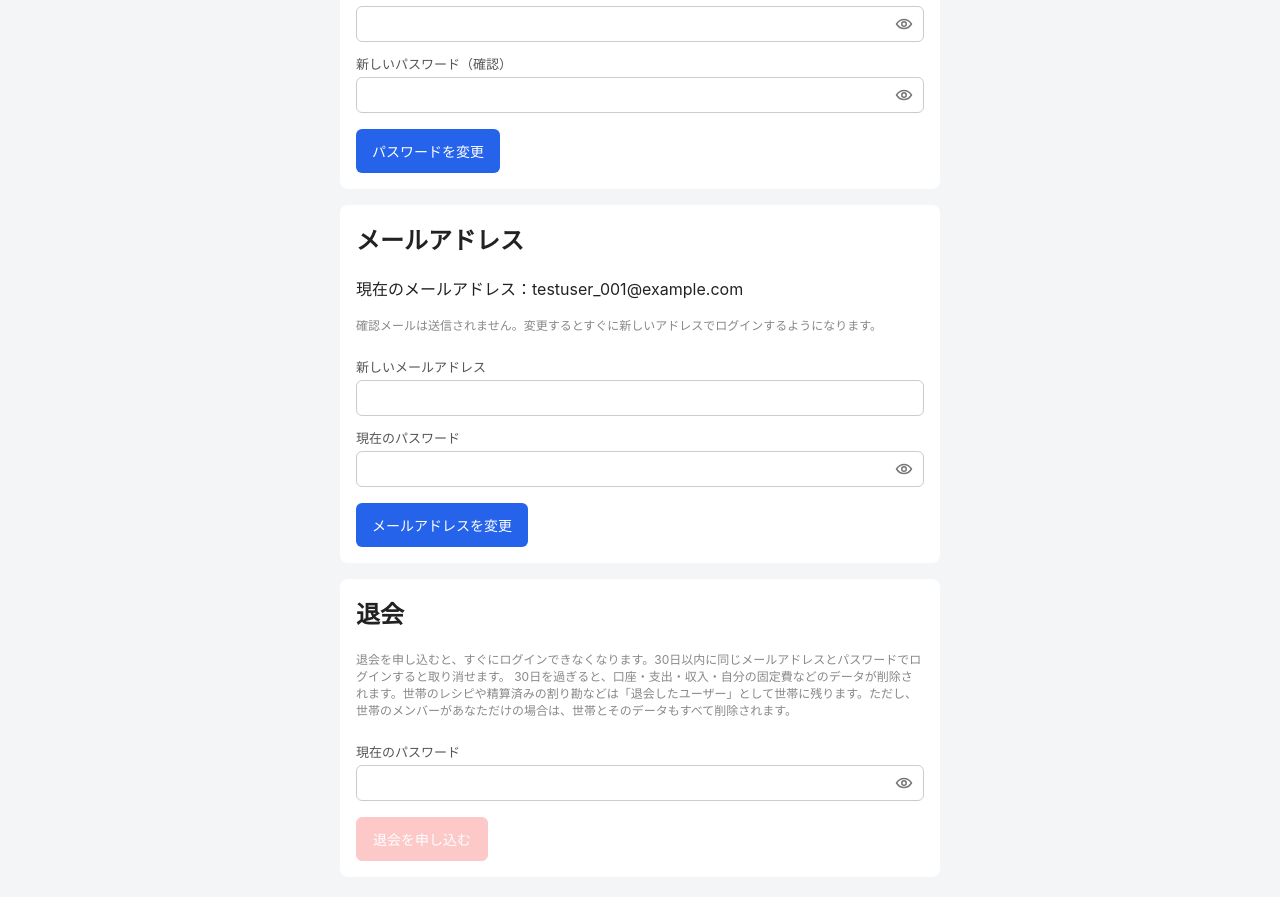
アカウント設定の退会 (#298) › 確認ダイアログを経て申し込むと、ログアウトしてログイン画面に削除予定日を表示する
The width and height of the screenshot is (1280, 897).
(page scrolled)
Expected: the text "30日以内" is shown, [356,652,921,718]
Type "TestPass123!" into the 2nd password field labelled "現在のパスワード". click: (640, 782)
box: [356,764,924,800]
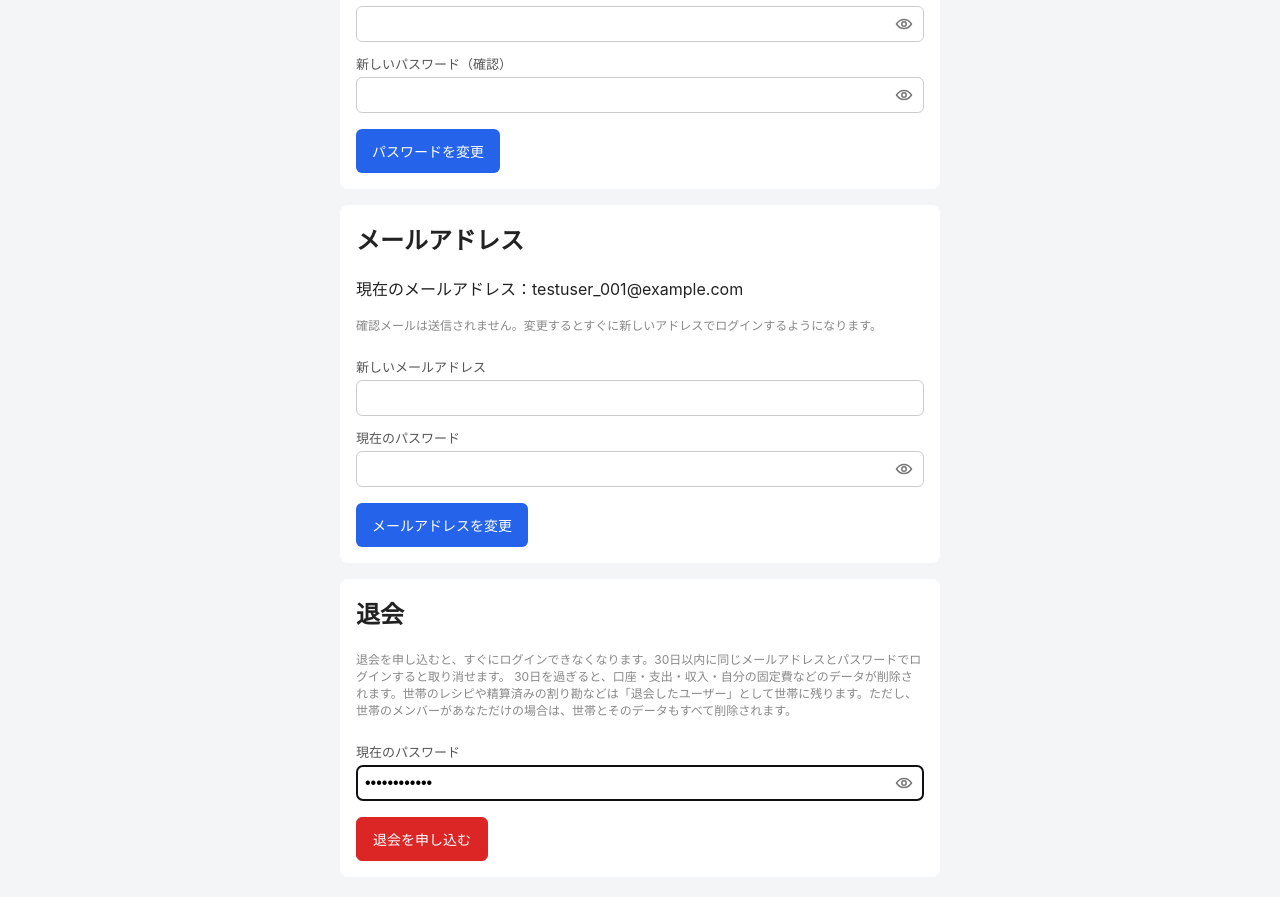
Expected: the button "退会を申し込む" is enabled
Click the button "退会を申し込む". click: click(422, 838)
box: [356,816,488,860]
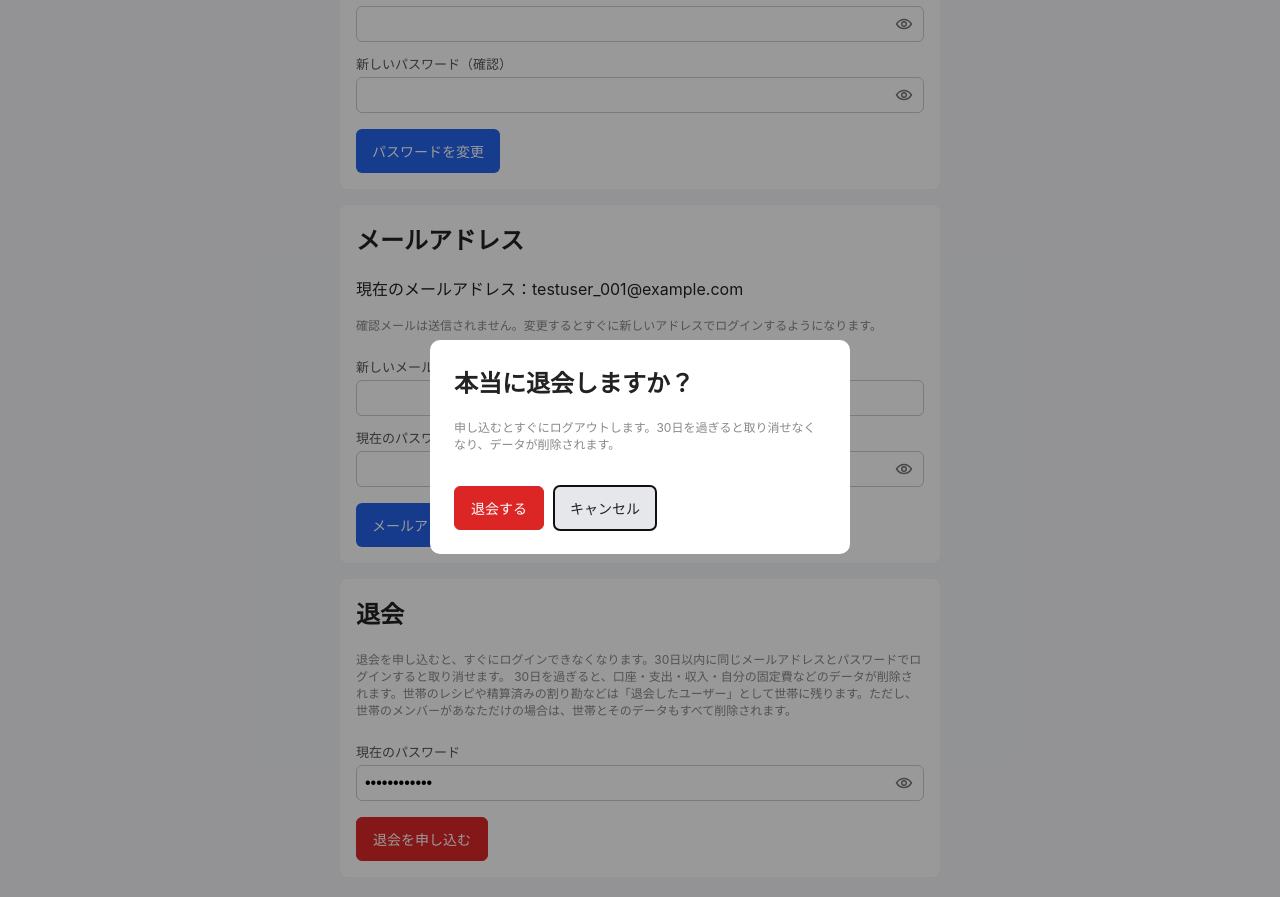
Click the button "キャンセル". click: click(605, 508)
box: [554,486,656,530]
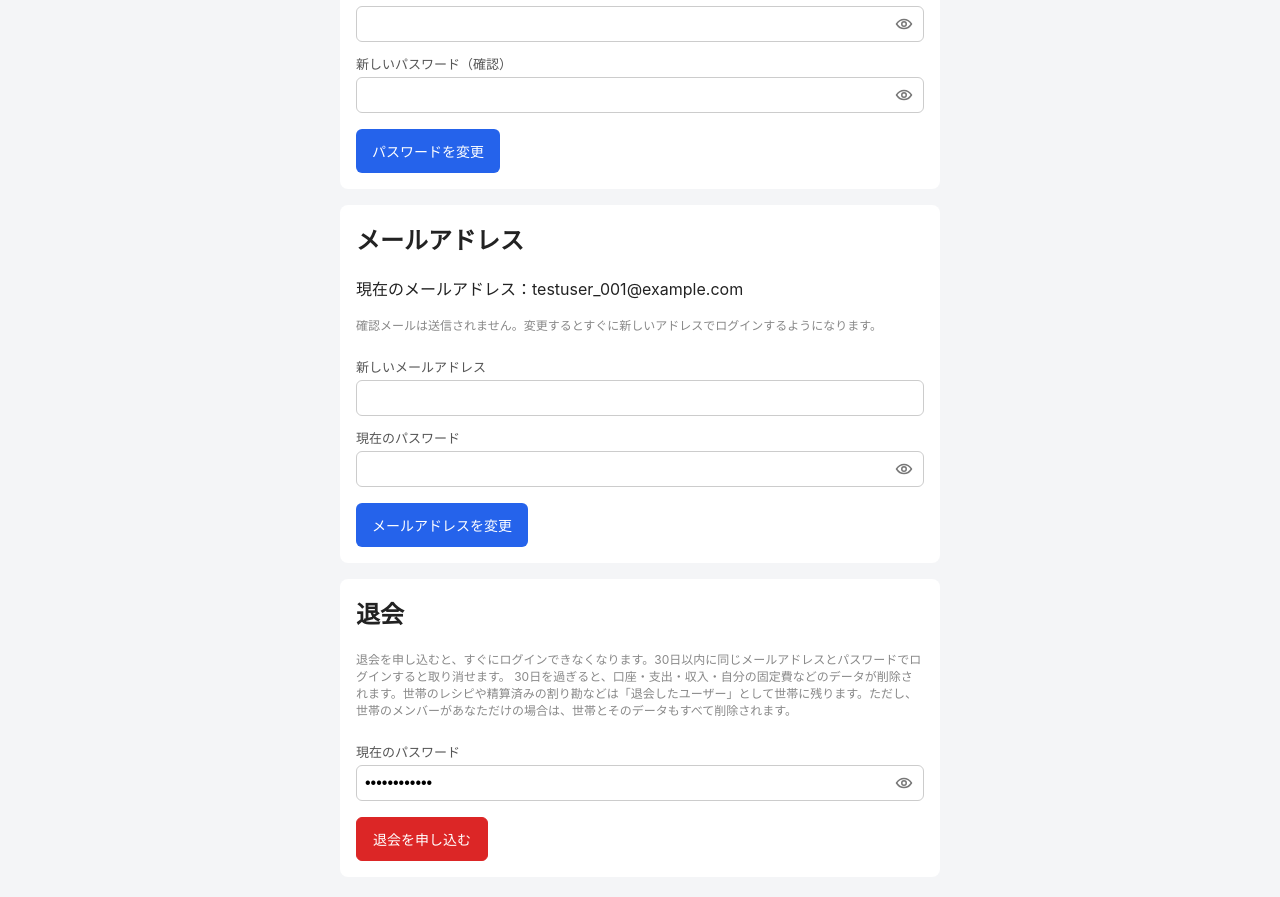
Click the button "退会を申し込む". click: click(422, 838)
box: [356,816,488,860]
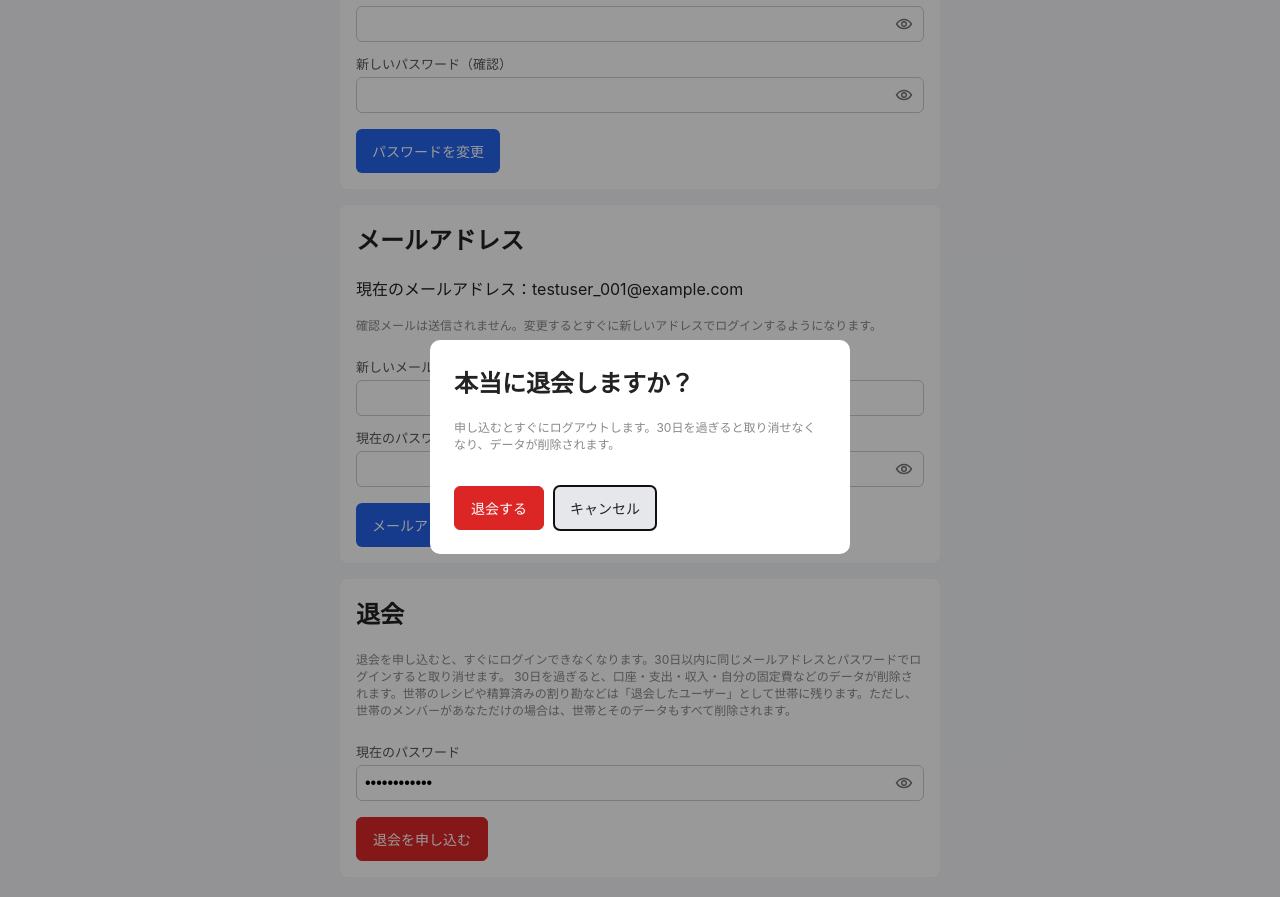
Click the button "退会する". click: click(499, 508)
box: [454,486,544,530]
(page scrolled)
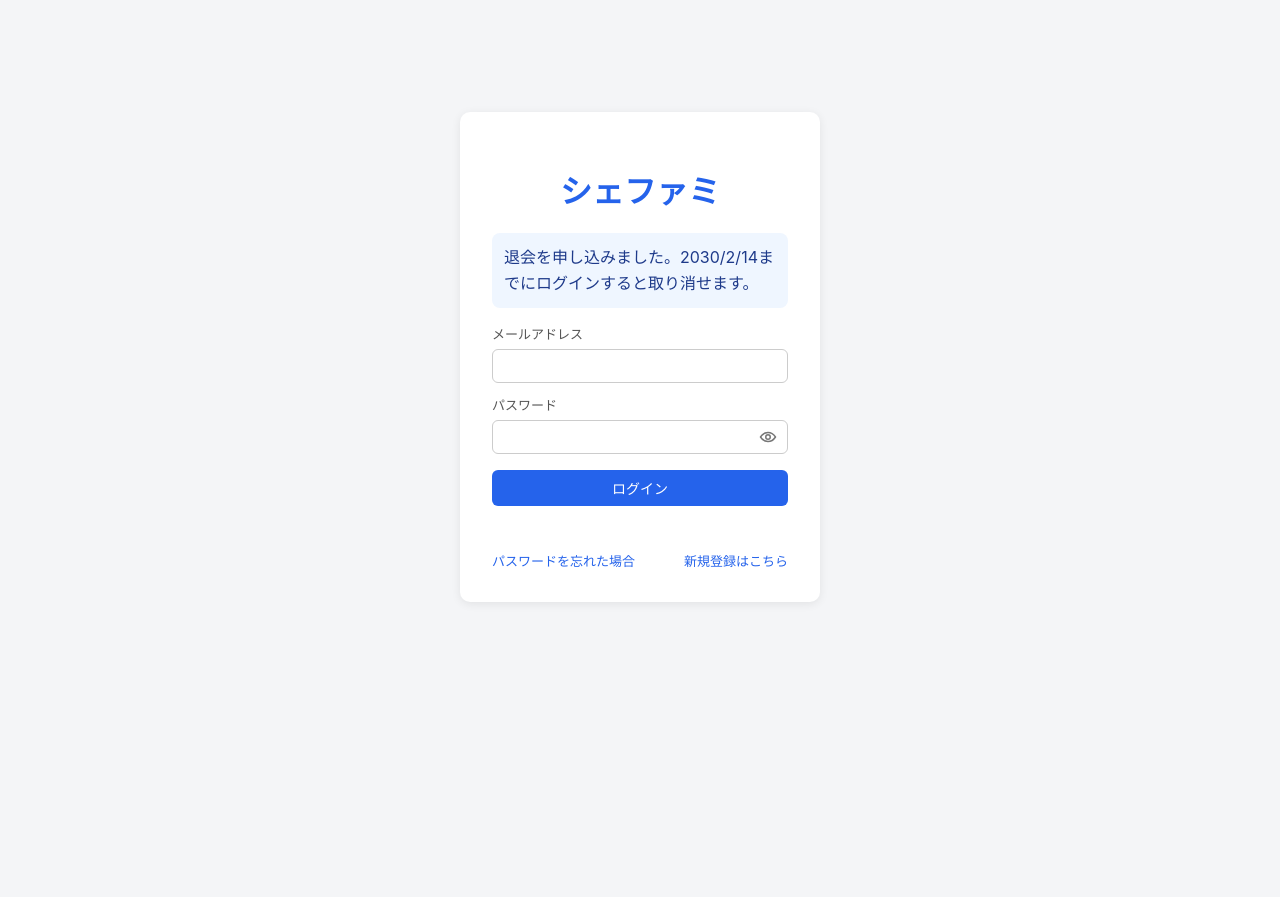
Expected: the text "退会を申し込みました。2030/2/14までにログインすると取り消せます。" is shown, [492,233,788,308]
